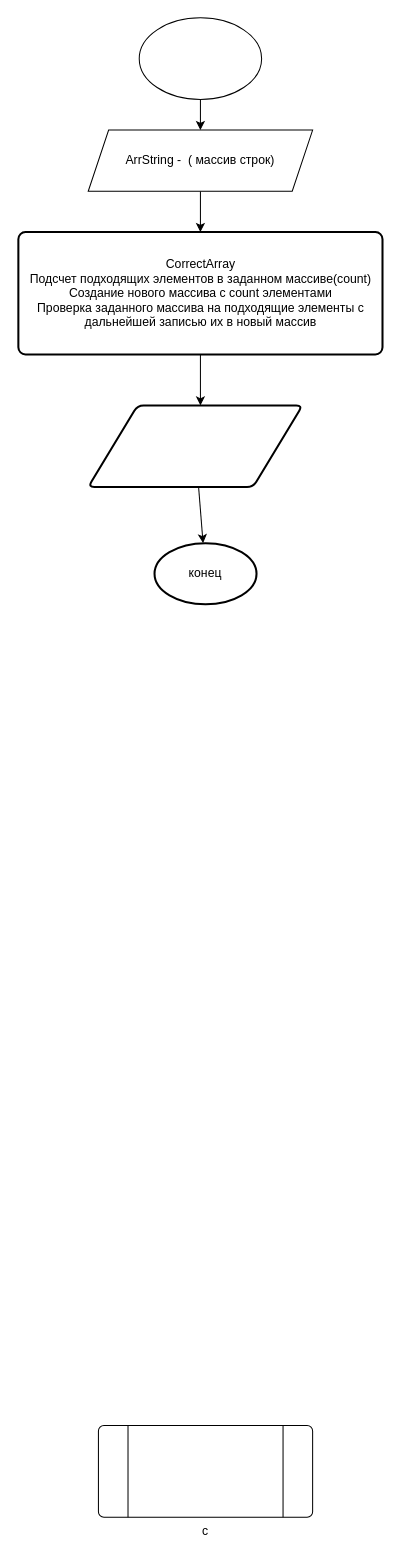
This 401x1557 diagram has some shape labels left out. The centre of each missing label's shape, as x and y in pixels:
Вывод нового массива: point 195,446
Начало: point 200,58
